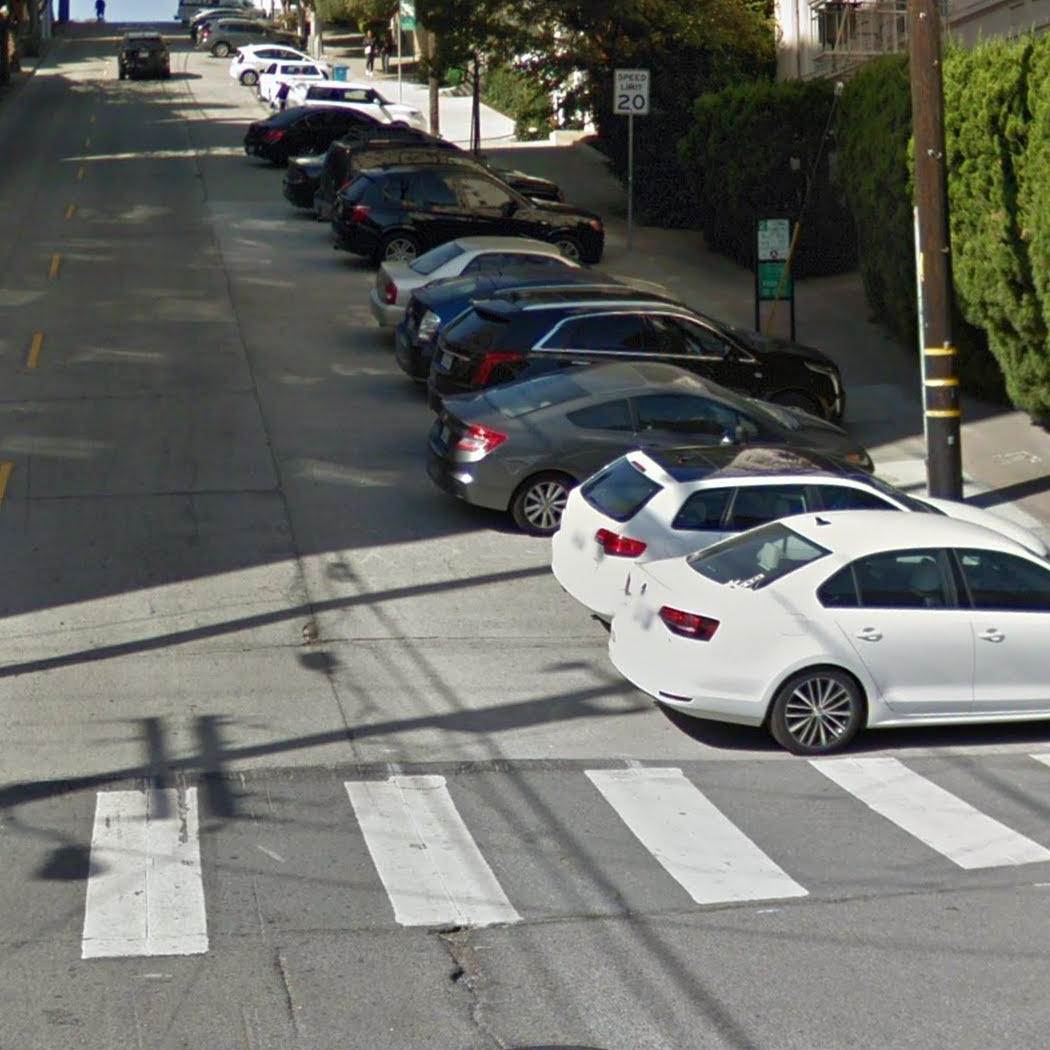2 Hour Parking: (757, 215, 791, 264)
